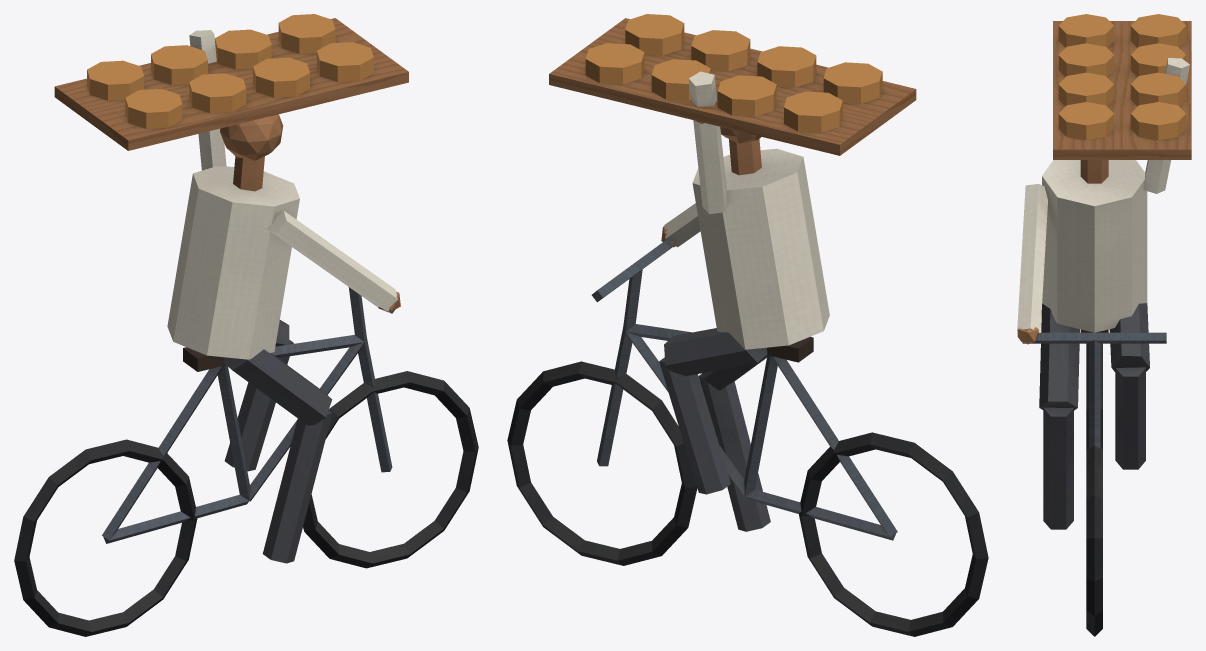
File: budcykel_tex.glb
3 renders of one model, left to right at view 1: azimuth 30°, elevation 25°; view 2: azimuth 150°, elevation 25°; view 3: azimuth 270°, elevation 25°, orthographic. The views are drawn at different scales.
Visible parts, largest first — view 1: budcykel; view 2: budcykel; view 3: budcykel.
Part boxes in pixels (box(x1,y1,x2,y2)): budcykel: box(14, 14, 478, 636); budcykel: box(507, 14, 988, 636); budcykel: box(1017, 14, 1191, 636).
Bounding box in the file's own units: 1.82 × 2 × 0.6292.
Materials: 8 (7 with a texture image).
